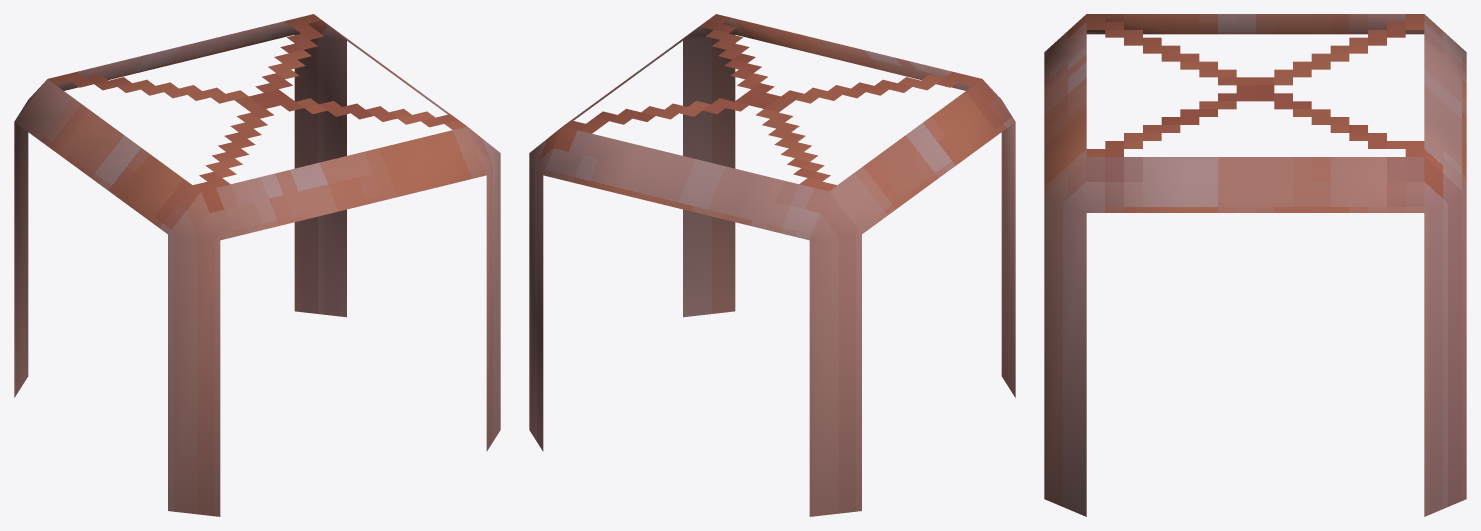
Rendered from grate.fbx.
3 views of the same model, side by side, from view 1: azimuth 30°, elevation 25°; view 2: azimuth 150°, elevation 25°; view 3: azimuth 270°, elevation 25° (orthographic). The views are drawn at different scales.
Visible parts, largest first — view 1: Cube; view 2: Cube; view 3: Cube.
Boxes of the visible parts, x1,y1,x2,y2 form: Cube: [14, 14, 500, 516]; Cube: [529, 14, 1015, 516]; Cube: [1044, 14, 1466, 516].
Bounding box in the file's own units: 200 × 179 × 200.
1 material, 1 textured.
